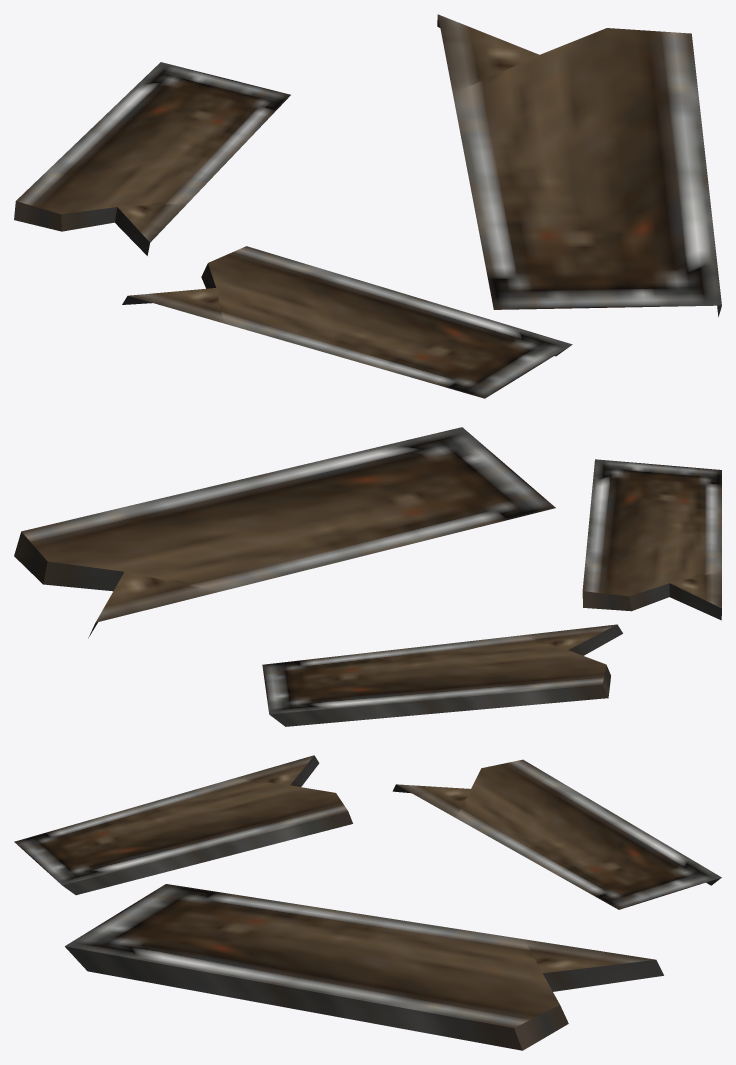
3 views of the same model, one above another, from view 1: azimuth 30°, elevation 25°; view 2: azimuth 150°, elevation 25°; view 3: azimuth 270°, elevation 25° (orthographic). The views are drawn at different scales.
Visible parts, largest first — view 1: SMDImport; view 2: SMDImport; view 3: SMDImport.
Part boxes in pixels (bbox=[...]): SMDImport: bbox=[14, 14, 721, 398]; SMDImport: bbox=[14, 427, 721, 726]; SMDImport: bbox=[14, 755, 721, 1050].
Bounding box in the file's own units: 153 × 9.15 × 162.
